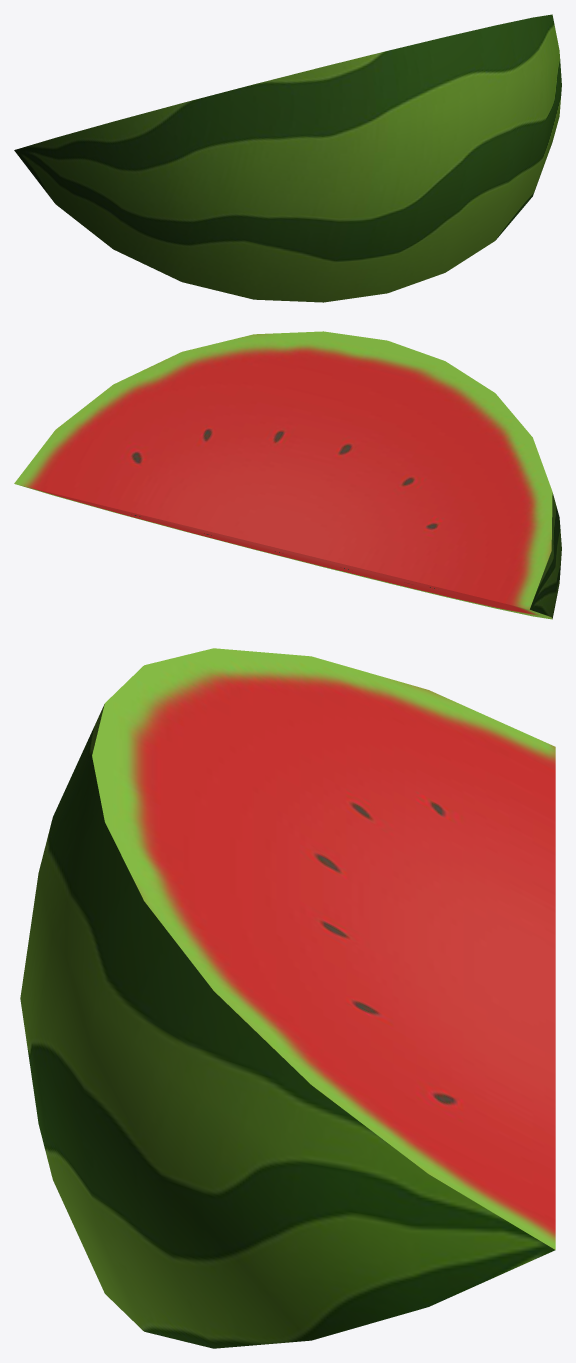
The model's file is WaterMelon.FBX.
3 renders of one model, top to bottom at view 1: azimuth 30°, elevation 25°; view 2: azimuth 150°, elevation 25°; view 3: azimuth 270°, elevation 25°, orthographic. The views are drawn at different scales.
Parts seen in each view (by area): view 1: WaterMelon; view 2: WaterMelon; view 3: WaterMelon.
Boxes of the visible parts, x1,y1,x2,y2 form: WaterMelon: (14, 14, 561, 302); WaterMelon: (14, 331, 561, 619); WaterMelon: (20, 648, 555, 1348).
Size of the model in its own units: 36.7 by 16.5 by 16.5.
1 material, 1 textured.
